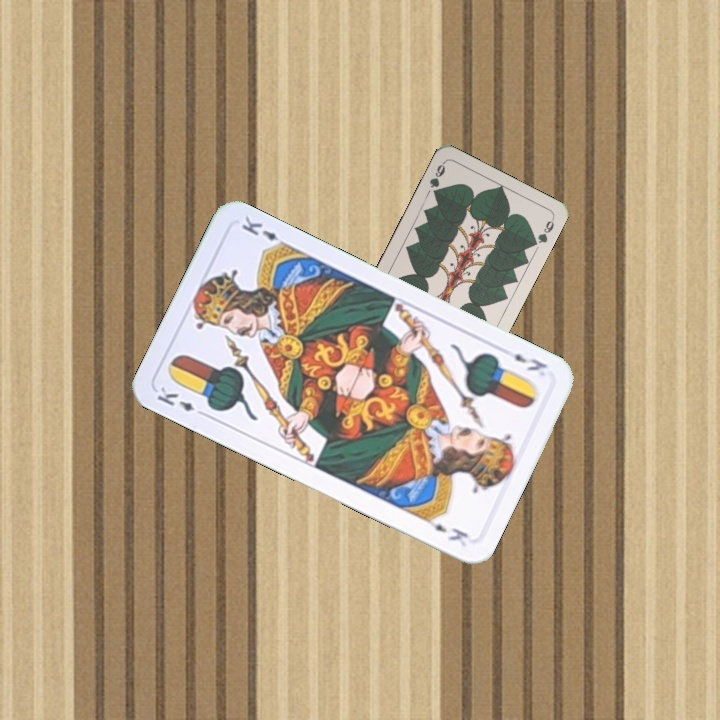EK: (153, 382, 209, 420), (510, 349, 550, 374)
G9: (425, 158, 448, 199)
